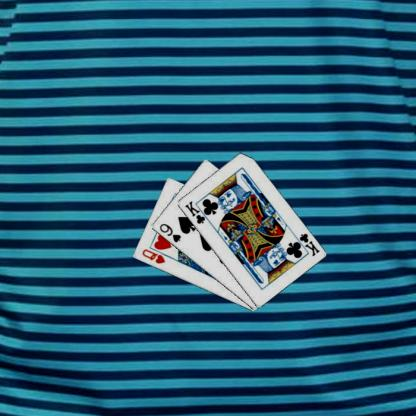9S: (157, 221, 182, 244)
KC: (182, 199, 211, 225), (292, 231, 321, 257)
QH: (139, 247, 166, 265)
